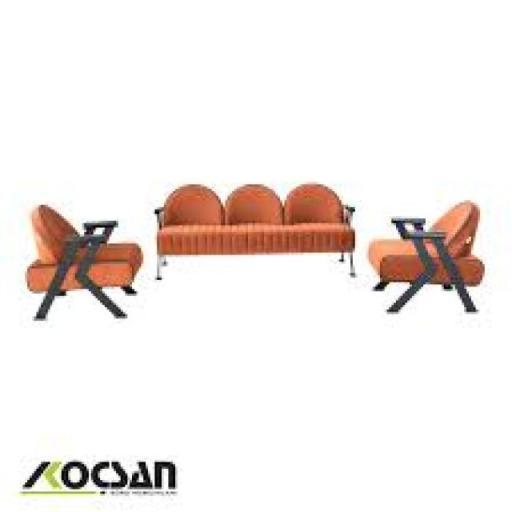sofa: (2, 178, 512, 382)
